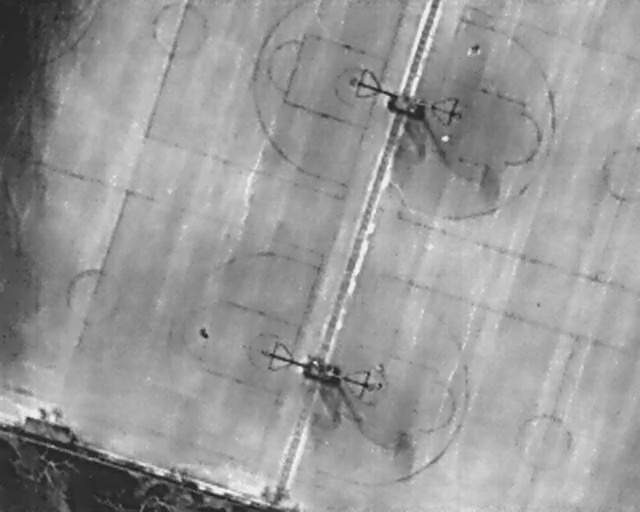Person: (467, 43, 482, 57), (198, 326, 208, 342), (440, 132, 452, 145)
